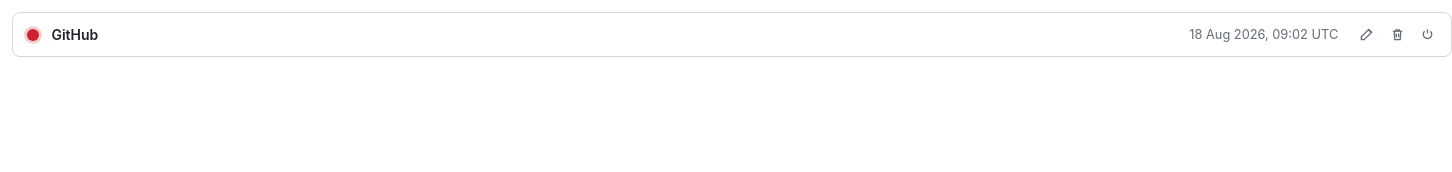
Test: SystemCard › reveals the detail when the row is activated
Click the button "GitHub 18 Aug 2026, 09:02 UTC".
click(75, 35)  # box x1=13 y1=13 x2=1353 y2=56
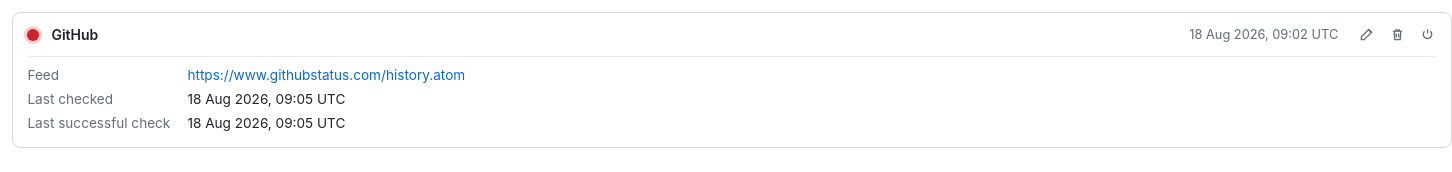
Result: the element with class "system-card__detail" is shown at x1=13 y1=56 x2=1451 y2=147
